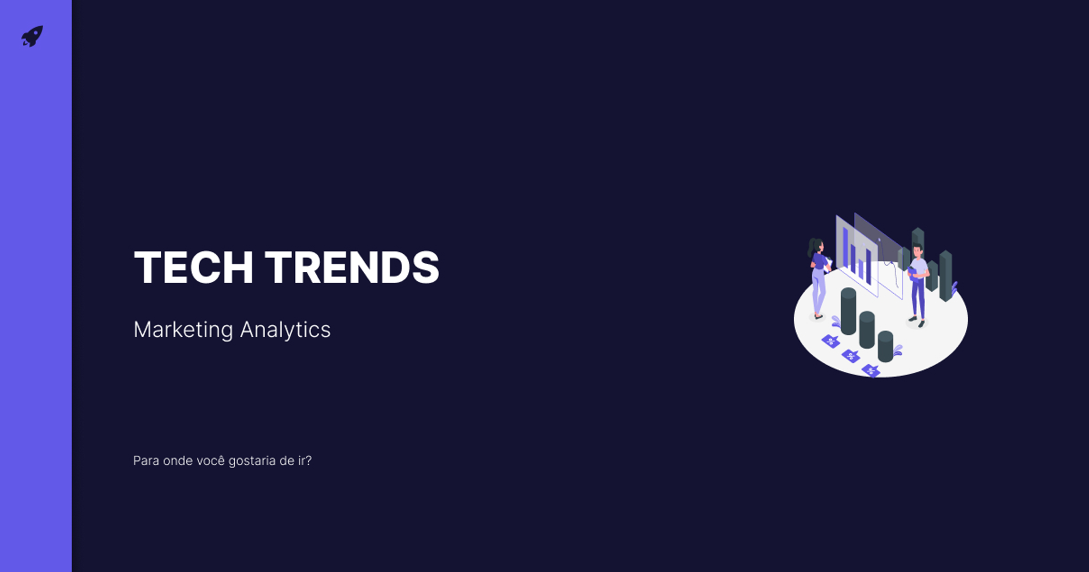

What the dashboard file says about the page in this screenshot:
{"tool":"powerbi","page":{"name":"Home","canvas":[1280,720],"ordinal":0},"visuals":[{"type":"pageNavigator","box":[162.7,596.1,599.6,33.7],"z":0}]}

Visuals, with their boxes on the page's 1280x720 design canvas (x1, y1, x2, y2). These are canvas units, not pixel positions in the 1089x572 screenshot, which may show the page scaled, cropped or inside an application window:
pageNavigator: box(163, 596, 762, 630)
